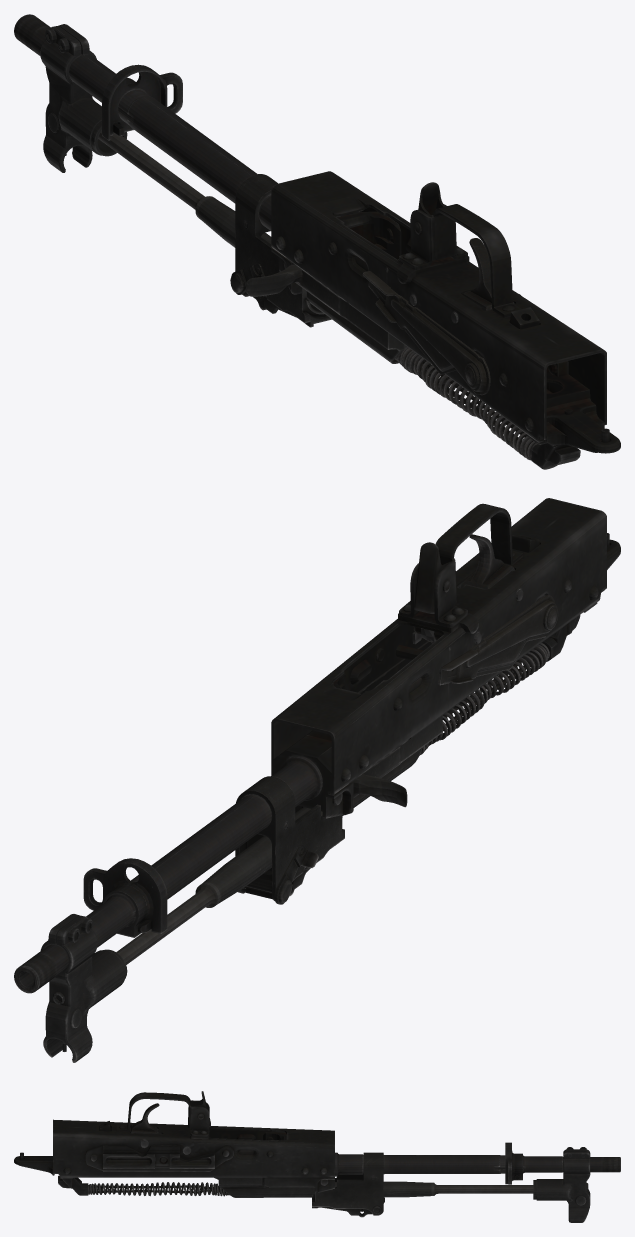
3 renders of one model, top to bottom at view 1: azimuth 30°, elevation 25°; view 2: azimuth 150°, elevation 25°; view 3: azimuth 270°, elevation 25°, orthographic. The views are drawn at different scales.
Visible parts, largest first — view 1: TW_628a60ae6b1d481ff772e9c8_PZ_Import; view 2: TW_628a60ae6b1d481ff772e9c8_PZ_Import; view 3: TW_628a60ae6b1d481ff772e9c8_PZ_Import.
Boxes of the visible parts, x1=… form: TW_628a60ae6b1d481ff772e9c8_PZ_Import: x1=14, y1=14, x2=620, y2=469; TW_628a60ae6b1d481ff772e9c8_PZ_Import: x1=14, y1=498, x2=620, y2=1062; TW_628a60ae6b1d481ff772e9c8_PZ_Import: x1=14, y1=1091, x2=620, y2=1222.
Bounding box in the file's own units: 0.0406 × 0.3209 × 0.0749.
1 material, 1 textured.
